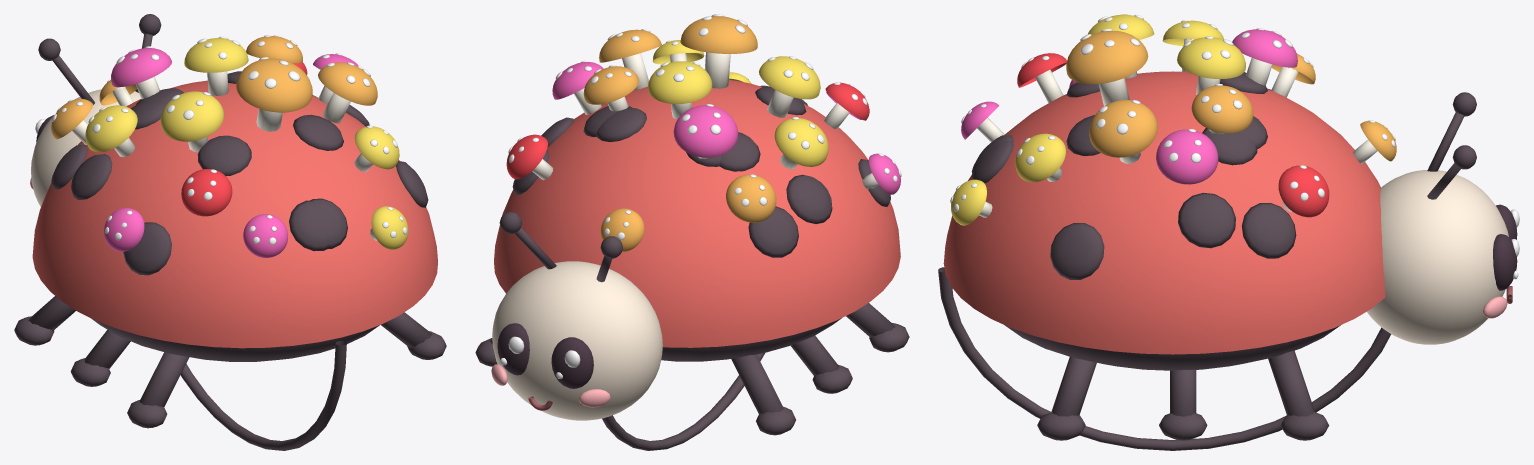
The model's file is ladybug.glb.
The picture shows the model from 3 angles, left to right: view 1: azimuth 30°, elevation 25°; view 2: azimuth 150°, elevation 25°; view 3: azimuth 270°, elevation 25°; orthographic projection. The views are drawn at different scales.
Parts seen in each view (by area): view 1: Shell, Head, LegL3, LegL2, LegR3, LegL1; view 2: Shell, Head, LegL1, LegL2, LegL3; view 3: Shell, Head, LegR1, LegR3, LegR2.
Part boxes in pixels (bbox=[...]): Shell: bbox=[32, 35, 437, 450]; Head: bbox=[30, 14, 161, 206]; LegL3: bbox=[127, 352, 189, 428]; LegL2: bbox=[70, 330, 130, 386]; LegR3: bbox=[381, 312, 446, 359]; LegL1: bbox=[14, 296, 75, 345]; Shell: bbox=[494, 14, 901, 450]; Head: bbox=[491, 211, 662, 420]; LegL1: bbox=[731, 354, 795, 435]; LegL2: bbox=[791, 335, 852, 393]; LegL3: bbox=[846, 303, 909, 352]; Shell: bbox=[938, 14, 1396, 450]; Head: bbox=[1367, 92, 1519, 344]; LegR1: bbox=[1268, 350, 1329, 440]; LegR3: bbox=[1037, 357, 1096, 440]; LegR2: bbox=[1159, 370, 1207, 440].
Size of the model in its own units: 1.24 by 1.33 by 1.67.
